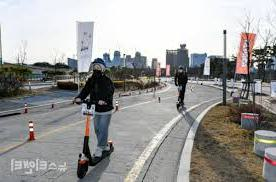helmet: (71, 57, 115, 181), (174, 65, 188, 110)
